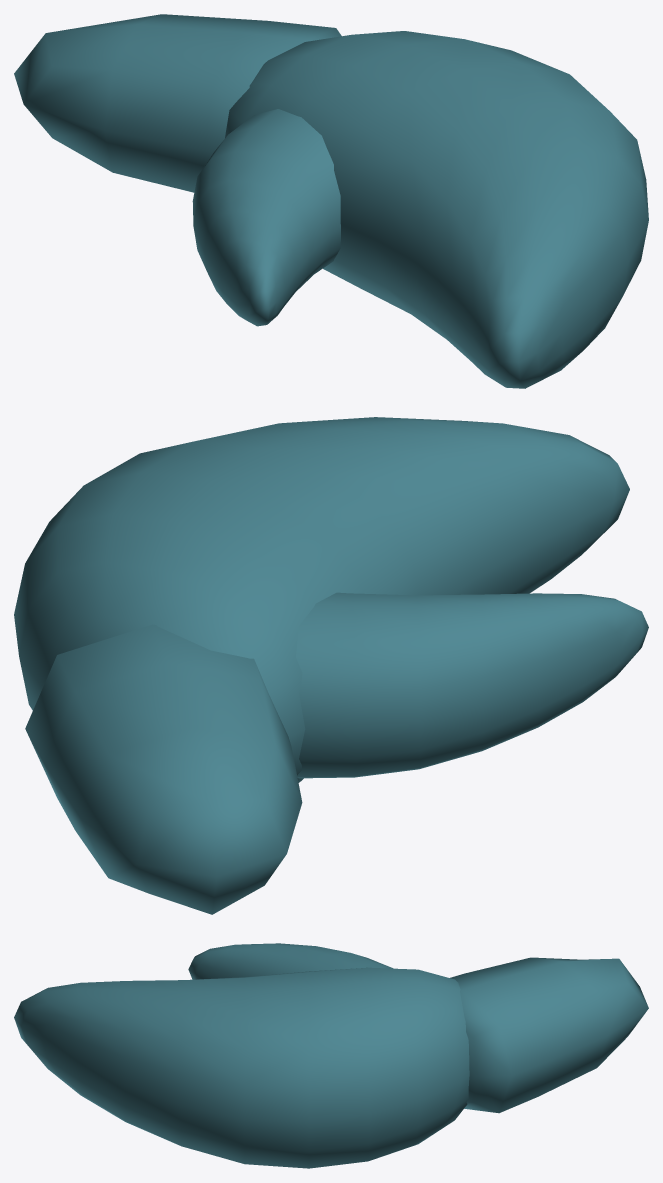
File: Crab_2_Claw_1.fbx
3 views of the same model, one above another, from view 1: azimuth 30°, elevation 25°; view 2: azimuth 150°, elevation 25°; view 3: azimuth 270°, elevation 25° (orthographic). The views are drawn at different scales.
Parts seen in each view (by area): view 1: Crab_2_Claw_1; view 2: Crab_2_Claw_1; view 3: Crab_2_Claw_1.
Part boxes in pixels (x1,y1,x2,y2): Crab_2_Claw_1: (14,14,648,388); Crab_2_Claw_1: (14,417,648,914); Crab_2_Claw_1: (14,943,648,1168).
Size of the model in its own units: 12.37 by 6.11 by 21.28.
